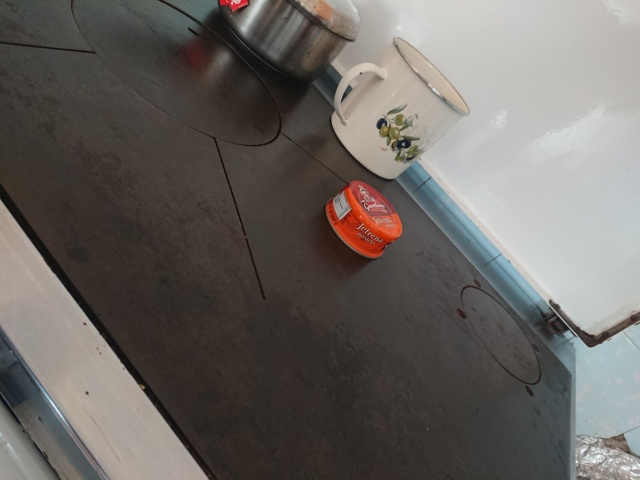Gavrilovic Pork Liver Pate 100g: (322, 178, 405, 262)
